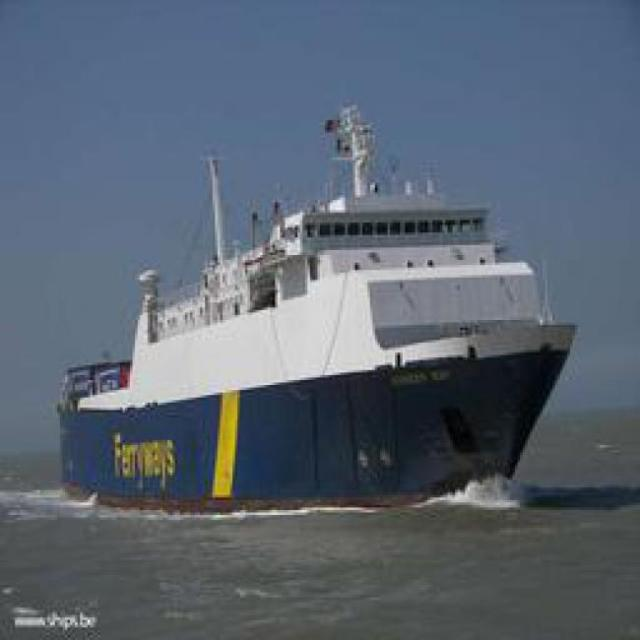boat: (35, 197, 582, 502)
